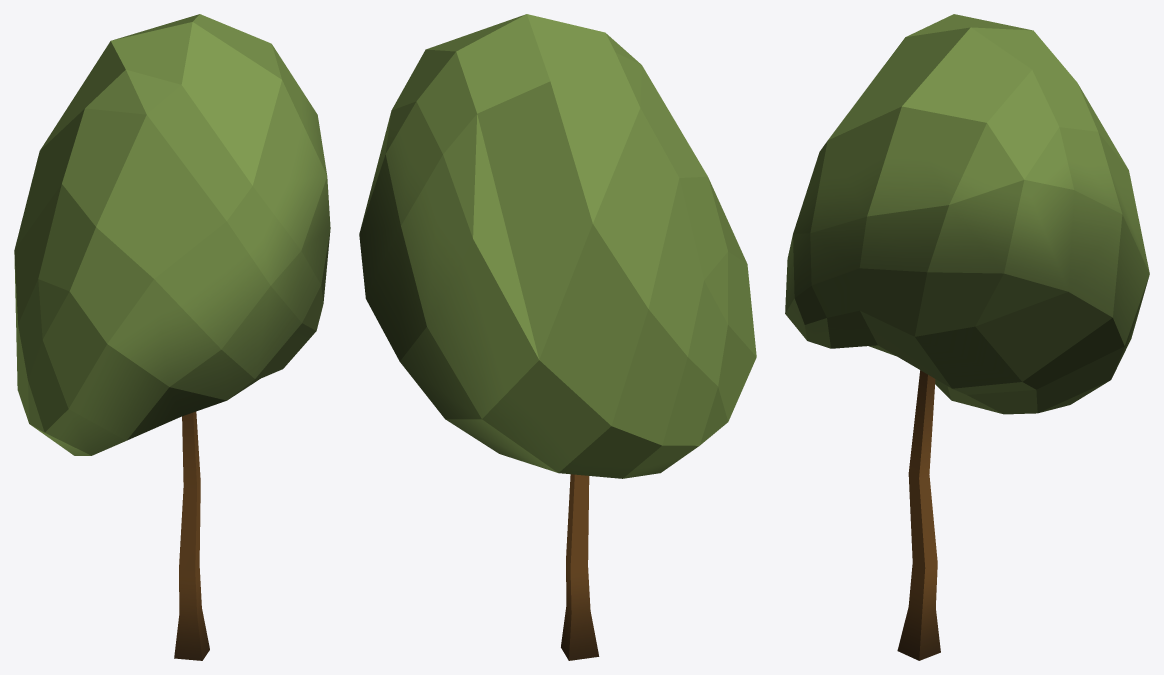
File: Tree_Sml-01.FBX
The picture shows the model from 3 angles, left to right: view 1: azimuth 30°, elevation 25°; view 2: azimuth 150°, elevation 25°; view 3: azimuth 270°, elevation 25°; orthographic projection. The views are drawn at different scales.
Parts seen in each view (by area): view 1: Tree_Sml-01; view 2: Tree_Sml-01; view 3: Tree_Sml-01.
Boxes of the visible parts, x1,y1,x2,y2 form: Tree_Sml-01: (14,14,330,660); Tree_Sml-01: (359,14,756,660); Tree_Sml-01: (785,14,1149,660).
Size of the model in its own units: 46.82 by 92.97 by 48.18.
Materials: 1 (1 with a texture image).
